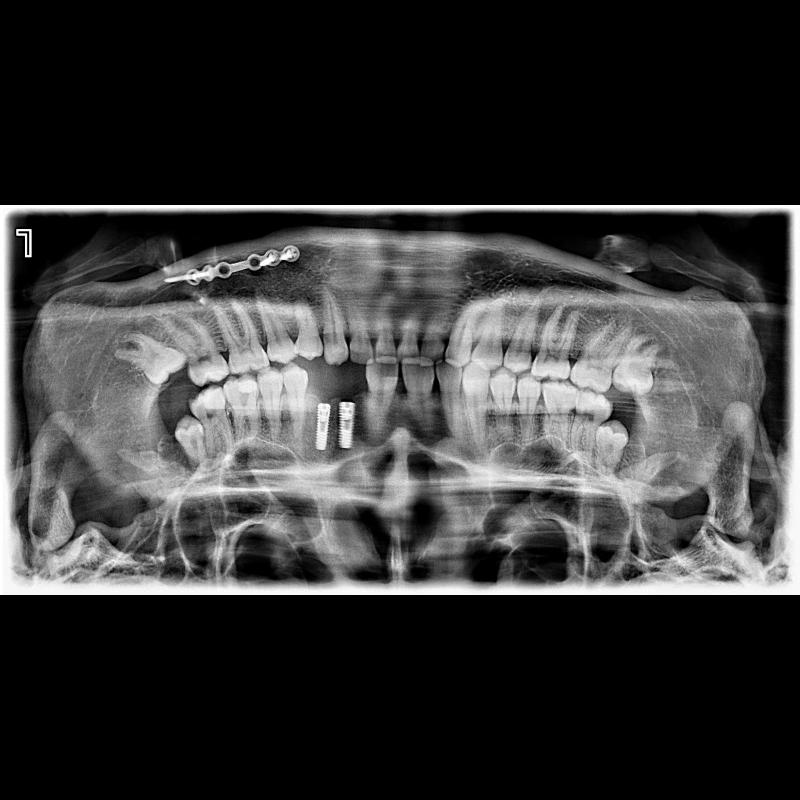osstem: (334, 399, 358, 450), (314, 399, 334, 451)
